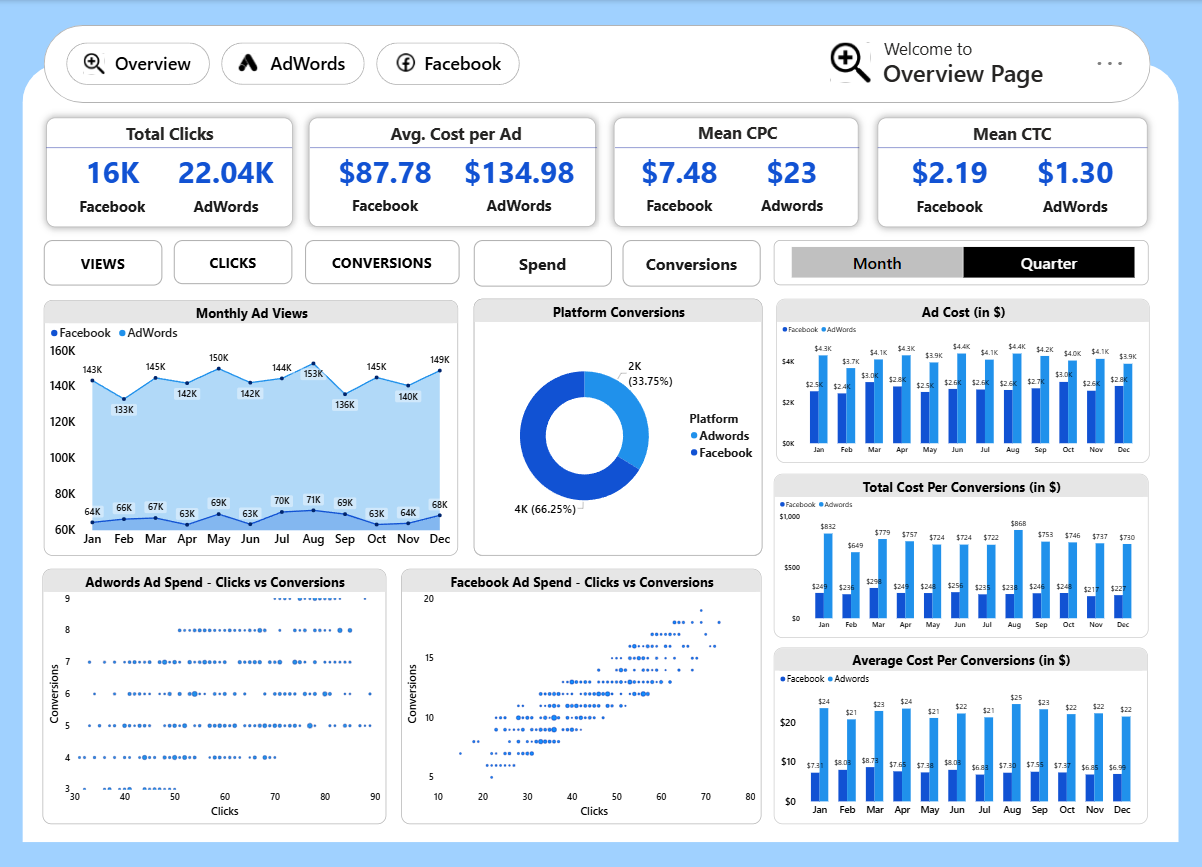

The dashboard page shown, as its layout file describes it:
{"tool":"powerbi","page":{"name":"Overview","canvas":[2700,1950],"ordinal":0},"visuals":[{"type":"shape","box":[49.1,144.4,2595.7,1747.9],"z":0},{"type":"shape","box":[1738.7,537.6,841.7,101.4],"z":1000},{"type":"areaChart","title":"Monthly Ad Views","fields":{"Category":["marketing_campaign.Short_Month"],"Y":["Sum(marketing_campaign.Facebook Ad Views)","Sum(marketing_campaign.AdWords Ad Views)"]},"box":[98.3,672.7,930.8,574.4],"z":2000},{"type":"clusteredColumnChart","title":"Ad Cost (in $)","fields":{"Category":["marketing_campaign.Short_Month"],"Y":["Sum(marketing_campaign.Cost per Facebook Ad (in $))","Sum(marketing_campaign.Cost per AdWords Ad (in $))"]},"box":[1741.7,669.7,838.6,368.6],"z":3000},{"type":"clusteredColumnChart","title":"Average Cost Per Conversions (in $)","fields":{"Category":["marketing_campaign.Short_Month"],"Y":["marketing_campaign.FB_Cost_per_Conversion","marketing_campaign.AW_Cost_per_Conversion"]},"box":[1738.7,1453.5,839.9,396.7],"z":4000},{"type":"clusteredColumnChart","title":"Total Cost Per Conversions (in $)","fields":{"Category":["marketing_campaign.Short_Month"],"Y":["Sum(marketing_campaign.Cost_per_Conversion)","Sum(marketing_campaign.Adwords_Cost_per_Conversion)"]},"box":[1738.7,1062.9,841.7,368.6],"z":5000},{"type":"actionButton","box":[684.4,538.9,346.9,99.1],"z":6000},{"type":"actionButton","box":[99.1,538.9,266.3,102.2],"z":7000},{"type":"actionButton","box":[390.2,538.9,266.3,99.1],"z":8000},{"type":"slicer","fields":{"Values":["Time Dynamic Axis.Time Dynamic Axis"]},"box":[1751,546.8,820.2,82.9],"z":9000},{"type":"shape","box":[98.3,55.3,2485.1,175.1],"z":10000},{"type":"actionButton","box":[147.4,95.2,322.5,95.2],"z":11000},{"type":"actionButton","box":[496.7,96.7,322,95],"z":12000},{"type":"actionButton","box":[845.6,95.6,322.2,95.6],"z":13000},{"type":"donutChart","title":"Platform Spend","fields":{"Category":["Platform.Platform"],"Y":["marketing_campaign.Platform_Spend"]},"box":[1062.9,669.7,648.2,577.5],"z":14000},{"type":"donutChart","title":"Platform Conversions","fields":{"Category":["Platform.Platform"],"Y":["marketing_campaign.Platform_Conversions"]},"box":[1063.3,670,648.3,576.7],"z":15000},{"type":"actionButton","box":[1062.9,537.6,310.3,104.4],"z":18000},{"type":"actionButton","box":[1397.7,537.6,310.3,104.4],"z":19000},{"type":"cardVisual","title":"Total Ad Spend","fields":{"Data":["Sum(marketing_campaign.Facebook Ad Clicks)","Sum(marketing_campaign.AdWords Ad Clicks)"]},"box":[103.3,263.3,553.3,246.7],"z":20000},{"type":"cardVisual","title":"Total Ad Spend","fields":{"Data":["Avg(marketing_campaign.Cost per Facebook Ad (in $))","Avg(marketing_campaign.Cost per AdWords Ad (in $))"]},"box":[694.2,264.2,645.1,245.7],"z":21000},{"type":"textbox","box":[236.7,268.9,290,66.7],"z":22000},{"type":"textbox","box":[866.3,270.3,313.3,61.4],"z":23000},{"type":"cardVisual","title":"Total Ad Spend","fields":{"Data":["marketing_campaign.FB_Cost_per_Conversion","marketing_campaign.AW_Cost_per_Conversion"]},"box":[1379.3,264.2,549.9,245.7],"z":24000},{"type":"textbox","box":[1492.9,267.3,325.6,64.5],"z":25000},{"type":"cardVisual","title":"Total Ad Spend","fields":{"Data":["Avg(marketing_campaign.Facebook Cost per Click (Ad Cost / Clicks) (in $))","Avg(marketing_campaign.AdWords Click-Through Rate (Clicks / View) (in %))"]},"box":[1970,262.7,606.7,246.7],"z":26000},{"type":"textbox","box":[2110,268.2,323.3,63.3],"z":27000},{"type":"textbox","box":[1938.6,79.9,288.8,67.6],"z":28000},{"type":"textbox","box":[1969.3,119.8,384,89.1],"z":29000},{"type":"textbox","box":[2432.9,95.2,116.7,110.6],"z":30000},{"type":"actionButton","box":[1861.5,89.1,98.3,101.4],"z":31000},{"type":"shape","box":[105,303.3,552,56.7],"z":32000},{"type":"scatterChart","title":"Adwords Ad Spend - Clicks vs Conversions","fields":{"X":["marketing_campaign.AdWords Ad Clicks"],"Y":["marketing_campaign.AdWords Ad Conversions"],"Size":["Sum(marketing_campaign.Cost per AdWords Ad (in $))"]},"box":[96.1,1276.9,771.7,573.4],"z":33000},{"type":"scatterChart","title":"Facebook Ad Spend - Clicks vs Conversions","fields":{"X":["marketing_campaign.Facebook Ad Clicks"],"Y":["marketing_campaign.Facebook Ad Conversions"],"Size":["Sum(marketing_campaign.Cost per Facebook Ad (in $))"]},"box":[901.9,1276.9,808.9,573.4],"z":34000},{"type":"shape","box":[695,303.3,645,56.7],"z":35000},{"type":"shape","box":[1380,303.3,549,56.7],"z":36000},{"type":"shape","box":[1970,303.3,606.7,56.7],"z":37000}]}

Visuals, with their boxes in screenshot pixels (x1, y1, x2, y2), scaled from the page's 2700x1950 canvas onto the 1202x867 screenshot:
shape: Rect(22, 64, 1177, 841)
shape: Rect(774, 239, 1149, 284)
"Monthly Ad Views" areaChart: Rect(44, 299, 458, 554)
"Ad Cost (in $)" clusteredColumnChart: Rect(775, 298, 1149, 462)
"Average Cost Per Conversions (in $)" clusteredColumnChart: Rect(774, 646, 1148, 823)
"Total Cost Per Conversions (in $)" clusteredColumnChart: Rect(774, 473, 1149, 636)
actionButton: Rect(305, 240, 459, 284)
actionButton: Rect(44, 240, 163, 285)
actionButton: Rect(174, 240, 292, 284)
slicer - Time Dynamic Axis.Time Dynamic Axis: Rect(780, 243, 1145, 280)
shape: Rect(44, 25, 1150, 102)
actionButton: Rect(66, 42, 209, 85)
actionButton: Rect(221, 43, 364, 85)
actionButton: Rect(376, 43, 520, 85)
"Platform Spend" donutChart: Rect(473, 298, 762, 555)
"Platform Conversions" donutChart: Rect(473, 298, 762, 554)
actionButton: Rect(473, 239, 611, 285)
actionButton: Rect(622, 239, 760, 285)
"Total Ad Spend" cardVisual: Rect(46, 117, 292, 227)
"Total Ad Spend" cardVisual: Rect(309, 117, 596, 227)
textbox: Rect(105, 120, 234, 149)
textbox: Rect(386, 120, 525, 147)
"Total Ad Spend" cardVisual: Rect(614, 117, 859, 227)
textbox: Rect(665, 119, 810, 148)
"Total Ad Spend" cardVisual: Rect(877, 117, 1147, 226)
textbox: Rect(939, 119, 1083, 147)
textbox: Rect(863, 36, 992, 66)
textbox: Rect(877, 53, 1048, 93)
textbox: Rect(1083, 42, 1135, 92)
actionButton: Rect(829, 40, 872, 85)
shape: Rect(47, 135, 292, 160)
"Adwords Ad Spend - Clicks vs Conversions" scatterChart: Rect(43, 568, 386, 823)
"Facebook Ad Spend - Clicks vs Conversions" scatterChart: Rect(402, 568, 762, 823)
shape: Rect(309, 135, 597, 160)
shape: Rect(614, 135, 859, 160)
shape: Rect(877, 135, 1147, 160)
